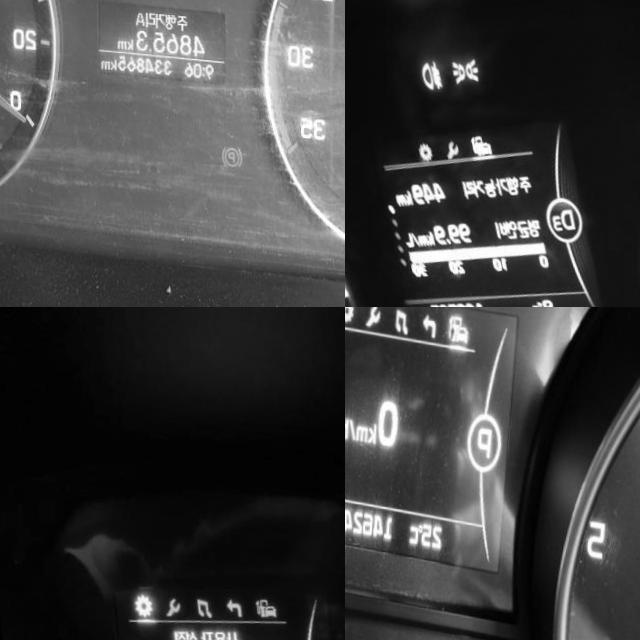FrontFogLight: (420, 52, 447, 88)
SideLamp: (451, 48, 483, 80)
